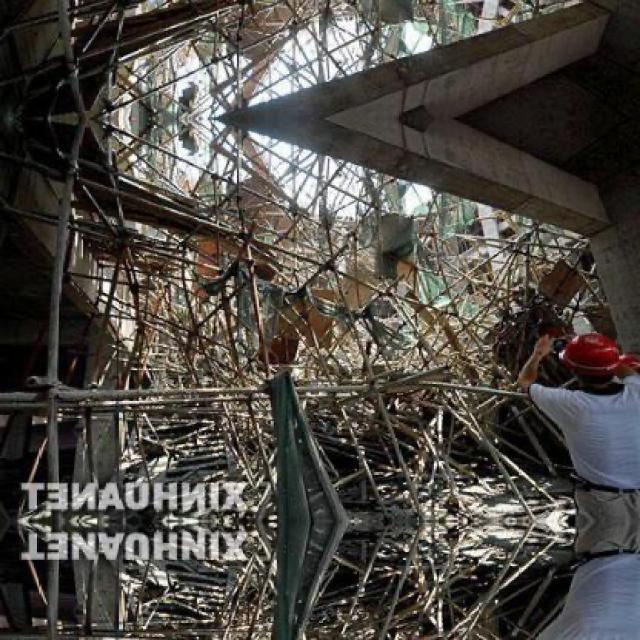con casco: (538, 315, 640, 388)
